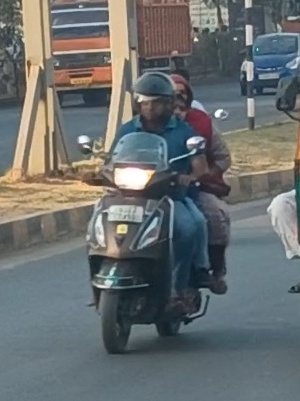BikeWithRider: (69, 64, 240, 358)
Helmet: (126, 67, 181, 127)
NoHelmet: (161, 69, 198, 117)
